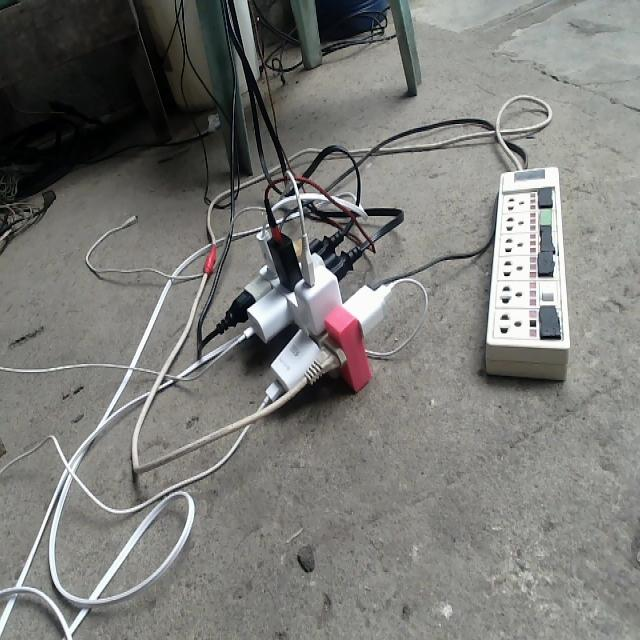-: (226, 217, 393, 399)
